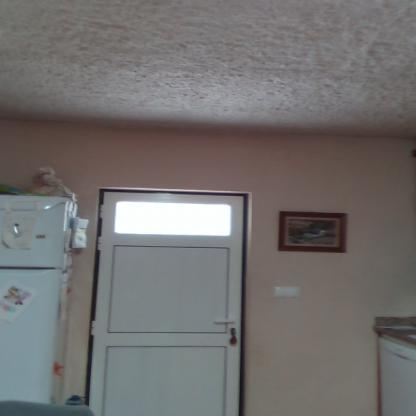door: (100, 191, 243, 415)
hinged: (96, 235, 103, 252), (89, 320, 96, 336), (98, 204, 104, 218)
lever: (214, 318, 237, 326)
